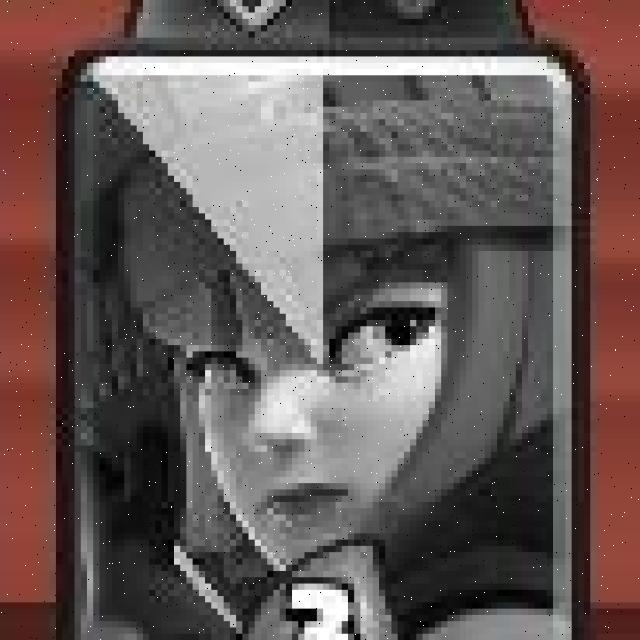Firecracker: (56, 50, 590, 640)
